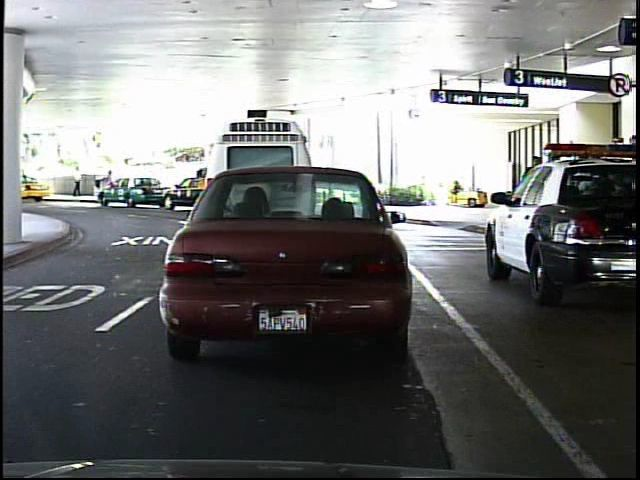person: (516, 150, 547, 227), (100, 165, 118, 201), (71, 161, 85, 199)
